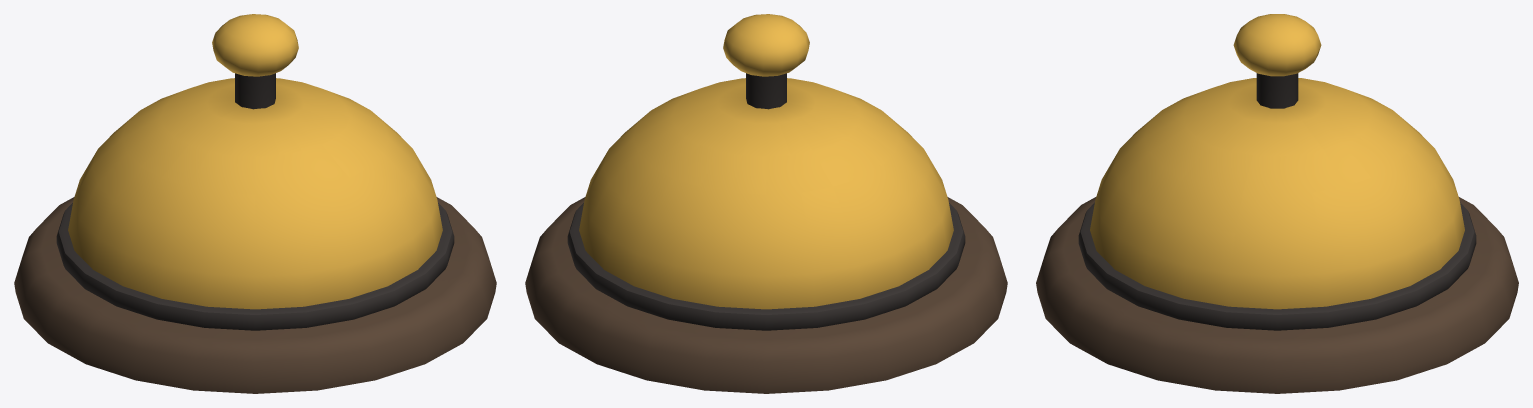
File: campainha.glb
3 renders of one model, left to right at view 1: azimuth 30°, elevation 25°; view 2: azimuth 150°, elevation 25°; view 3: azimuth 270°, elevation 25°, orthographic.
Parts seen in each view (by area): view 1: campainha; view 2: campainha; view 3: campainha.
Part boxes in pixels (x1,y1,x2,y2): campainha: [14, 14, 496, 393]; campainha: [525, 14, 1007, 393]; campainha: [1036, 14, 1518, 393].
Bounding box in the file's own units: 0.4614 × 0.2923 × 0.4614.
